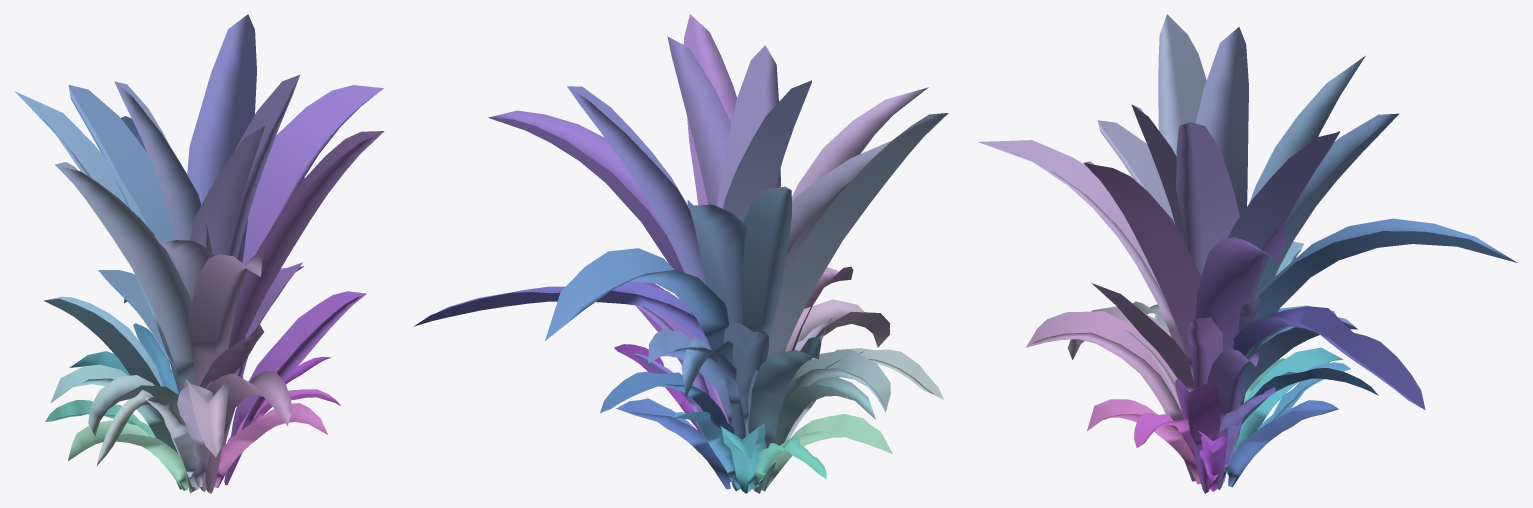
3 renders of one model, left to right at view 1: azimuth 30°, elevation 25°; view 2: azimuth 150°, elevation 25°; view 3: azimuth 270°, elevation 25°, orthographic. The views are drawn at different scales.
Parts seen in each view (by area): view 1: SM_BS_DatePalm_200cm_HD; view 2: SM_BS_DatePalm_200cm_HD; view 3: SM_BS_DatePalm_200cm_HD.
Boxes of the visible parts, bbox=[...] form: SM_BS_DatePalm_200cm_HD: bbox=[14, 14, 384, 493]; SM_BS_DatePalm_200cm_HD: bbox=[414, 14, 948, 493]; SM_BS_DatePalm_200cm_HD: bbox=[978, 14, 1517, 493].
Bounding box in the file's own units: 89.44 × 74.37 × 76.58.
